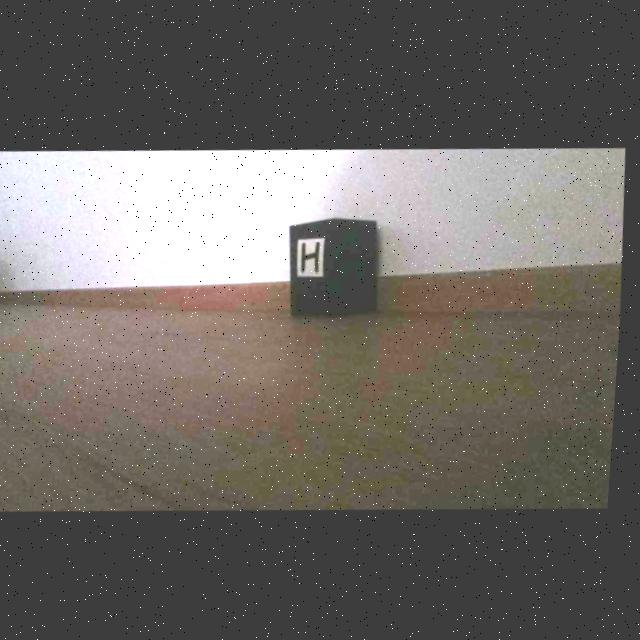H: (304, 240, 323, 270)
